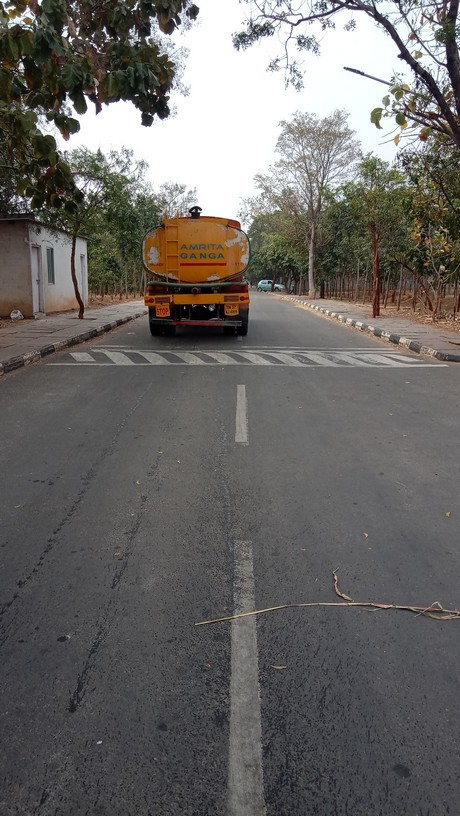bump: (27, 346, 442, 368)
